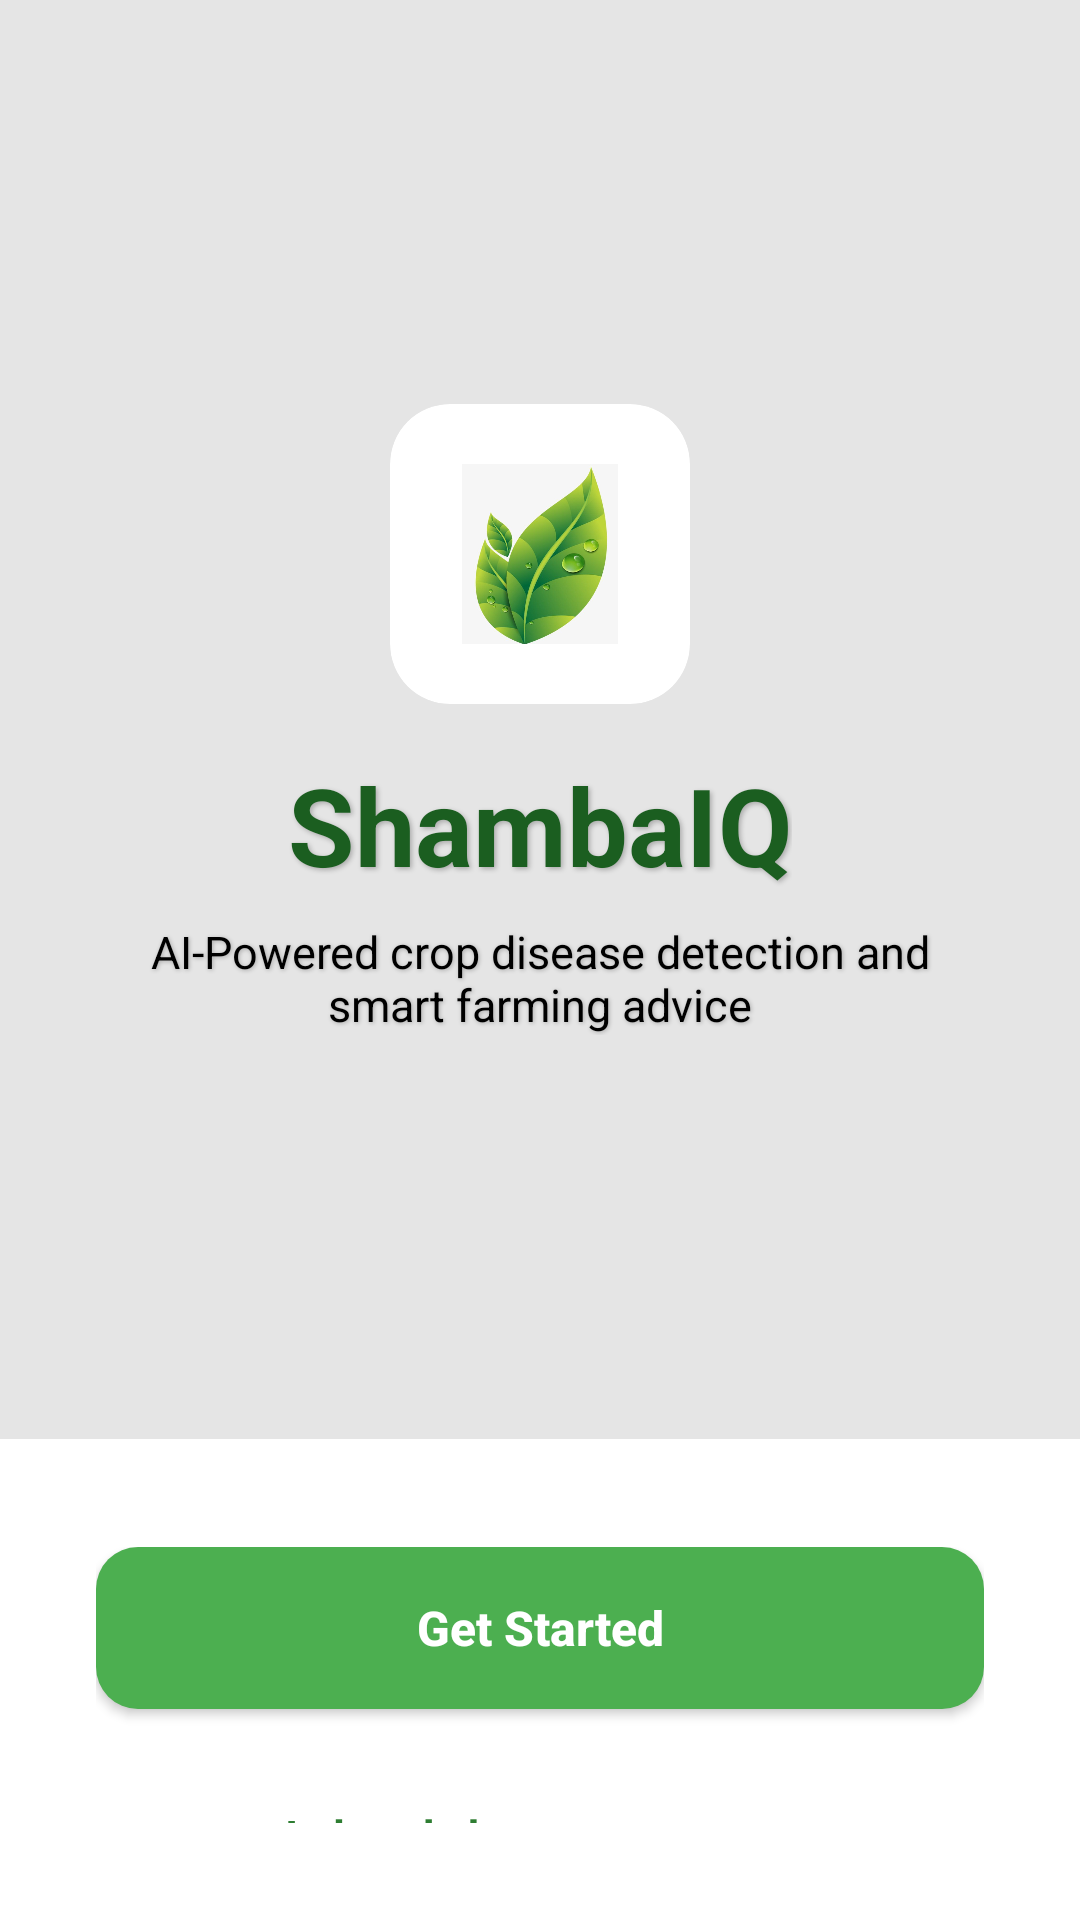

Named icons in this screenshot (1080×1920) and their centers, (x=x, y=y):
leaf: (x=541, y=555)
